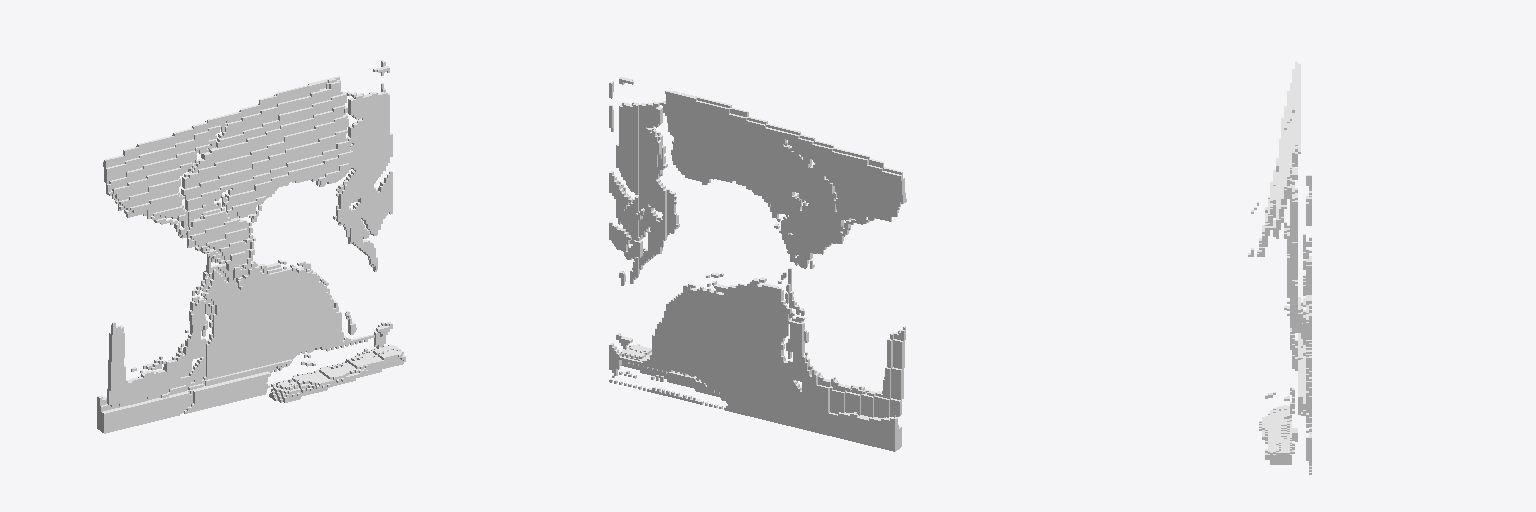
The model's file is w5.vox.obj.
The picture shows the model from 3 angles: view 1: azimuth 30°, elevation 25°; view 2: azimuth 150°, elevation 25°; view 3: azimuth 270°, elevation 25°; orthographic projection.
Visible parts, largest first — view 1: wall paper; view 2: wall paper; view 3: wall paper.
Part boxes in pixels (bbox=[...]): wall paper: bbox=[97, 60, 405, 433]; wall paper: bbox=[609, 77, 906, 451]; wall paper: bbox=[1248, 62, 1311, 474].
Size of the model in its own units: 12 by 12 by 2.3.